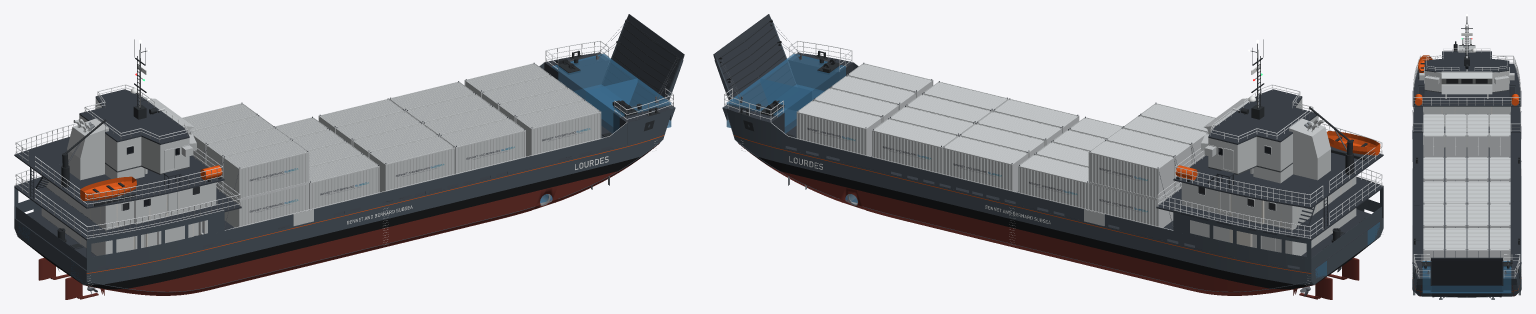
The model's file is lourdes.glb.
3 renders of one model, left to right at view 1: azimuth 30°, elevation 25°; view 2: azimuth 150°, elevation 25°; view 3: azimuth 270°, elevation 25°, orthographic. The views are drawn at different scales.
Visible parts, largest first — view 1: LR_Hull_ShellStbd, LR_Hull_BulwarkS, LR_HouseBridge_DeckPlate, LR_CargoRamp_Container_B1_R4_T2, LR_CargoRamp_Plate, LR_CargoRamp_Container_B3_R4_T1, LR_CargoRamp_Container_B5_R4_T1, LR_Wheelhouse_Roof, LR_CargoRamp_Container_B4_R4_T1, LR_CargoRamp_Container_B2_R4_T1, LR_HouseAcc1_DeckPlate, LR_HouseAcc1_Walls (+39 smaller); view 2: LR_Hull_ShellPort, LR_Hull_BulwarkP, LR_HouseBridge_DeckPlate, LR_CargoRamp_Container_B1_R1_T2, LR_CargoRamp_Plate, LR_CargoRamp_Container_B3_R1_T1, LR_CargoRamp_Container_B5_R1_T1, LR_Wheelhouse_Roof, LR_CargoRamp_Container_B4_R1_T1, LR_HouseAcc1_DeckPlate, LR_CargoRamp_Container_B2_R1_T1, LR_HouseAcc1_Walls (+40 smaller); view 3: LR_CargoRamp_Plate, LR_HouseBridge_DeckPlate, LR_Hull_DeckWingP, LR_Hull_DeckWingS, LR_Wheelhouse_Roof, LR_Wheelhouse_FrontBlock, LR_CargoRamp_Container_B1_R1_T2, LR_CargoRamp_Container_B1_R2_T2, LR_CargoRamp_Container_B1_R3_T2, LR_CargoRamp_Container_B1_R4_T2, LR_Wheelhouse_Walls, LR_HouseAcc1_Walls (+39 smaller).
Part boxes in pixels (x1,y1,x2,y2): LR_Hull_ShellStbd: (103,145,627,295); LR_Hull_BulwarkS: (86,123,627,271); LR_HouseBridge_DeckPlate: (14,137,224,208); LR_CargoRamp_Container_B1_R4_T2: (223,140,309,199); LR_CargoRamp_Plate: (602,20,680,107); LR_CargoRamp_Container_B3_R4_T1: (369,136,455,192); LR_CargoRamp_Container_B5_R4_T1: (515,100,601,156); LR_Wheelhouse_Roof: (79,89,189,144); LR_CargoRamp_Container_B4_R4_T1: (440,118,525,174); LR_CargoRamp_Container_B2_R4_T1: (309,154,379,210); LR_HouseAcc1_DeckPlate: (14,177,241,240); LR_HouseAcc1_Walls: (41,176,216,230); LR_Hull_ShellPort: (770,145,1294,295); LR_Hull_BulwarkP: (770,123,1311,271); LR_HouseBridge_DeckPlate: (1173,146,1383,208); LR_CargoRamp_Container_B1_R1_T2: (1088,140,1174,199); LR_CargoRamp_Plate: (717,20,795,107); LR_CargoRamp_Container_B3_R1_T1: (942,136,1028,192); LR_CargoRamp_Container_B5_R1_T1: (796,100,882,156); LR_Wheelhouse_Roof: (1208,89,1317,144); LR_CargoRamp_Container_B4_R1_T1: (872,118,957,174); LR_HouseAcc1_DeckPlate: (1156,177,1383,240); LR_CargoRamp_Container_B2_R1_T1: (1018,154,1088,210); LR_HouseAcc1_Walls: (1181,176,1356,230); LR_CargoRamp_Plate: (1432,261,1501,296); LR_HouseBridge_DeckPlate: (1412,63,1521,106); LR_Hull_DeckWingP: (1503,133,1521,277); LR_Hull_DeckWingS: (1412,133,1430,277); LR_Wheelhouse_Roof: (1424,51,1509,72); LR_Wheelhouse_FrontBlock: (1441,71,1492,94); LR_CargoRamp_Container_B1_R1_T2: (1489,114,1510,156); LR_CargoRamp_Container_B1_R2_T2: (1467,114,1488,156); LR_CargoRamp_Container_B1_R3_T2: (1445,114,1466,156); LR_CargoRamp_Container_B1_R4_T2: (1423,114,1444,156); LR_Wheelhouse_Walls: (1419,71,1514,91); LR_HouseAcc1_Walls: (1423,106,1510,126).
Bounding box in the file's own units: 52.7 × 19.17 × 12.55.
Materials: 26 (1 with a texture image).
